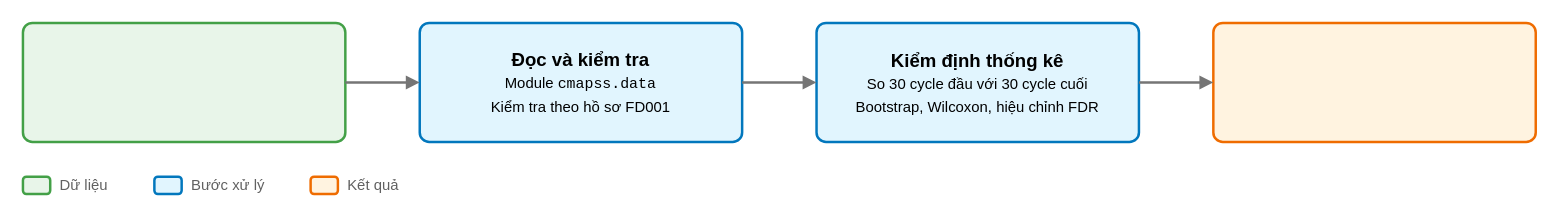
Image size: 1557x219. Some labels were removed from this diagram. Here are the shapes that lost their labels. From the top down, the centre of each, then its label:
At point 183,82: "Dữ liệu train FD001 100 động cơ, 20.631 dòng train_FD001.txt".
At point 1373,82: "Kết quả thống kê 2 bảng CSV và run_info Lưu ở outputs/statistics".
